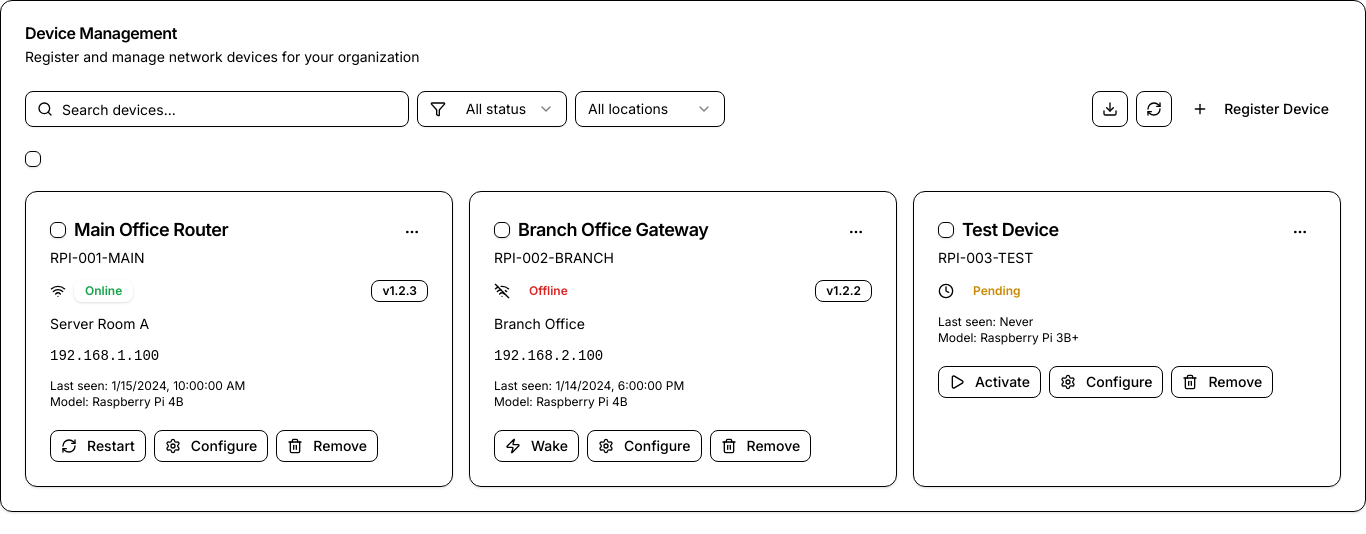
Test: DeviceRegistration › Bulk Operations › should allow selecting multiple devices
The width and height of the screenshot is (1366, 534).
Expected: the element with test id "device-card-device-1" is shown, left=25, top=191, right=453, bottom=487
Click the checkbox named "Select Main Office Router" at (58, 230), box left=50, top=222, right=66, bottom=238
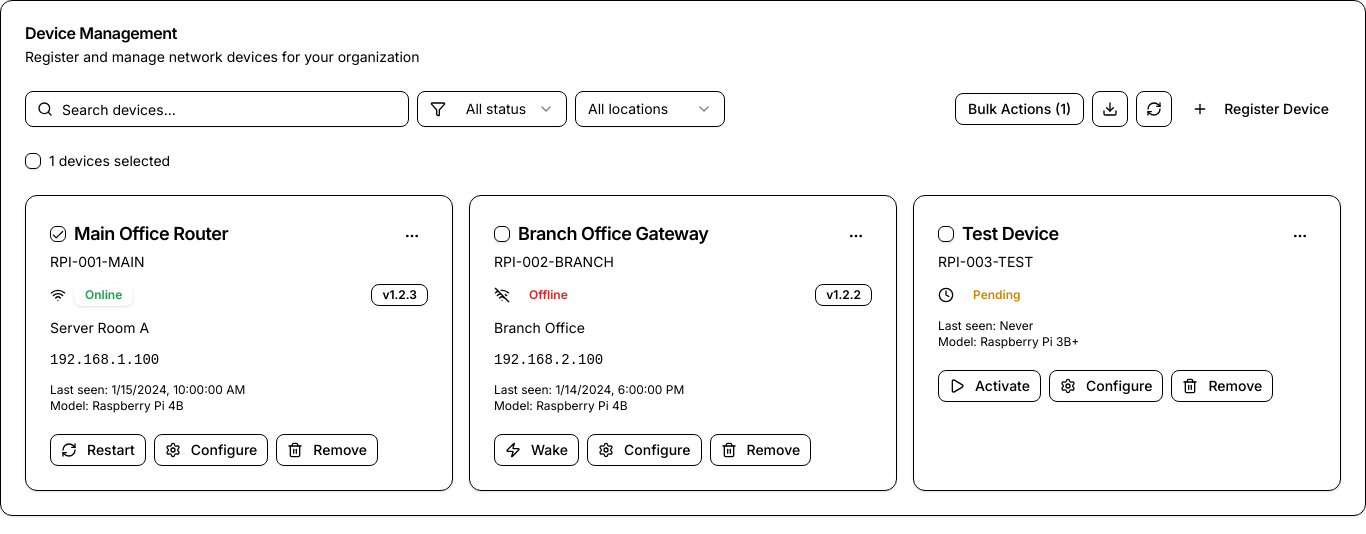
Click the checkbox named "Select Branch Office Gateway" at (502, 234), box left=494, top=226, right=510, bottom=242
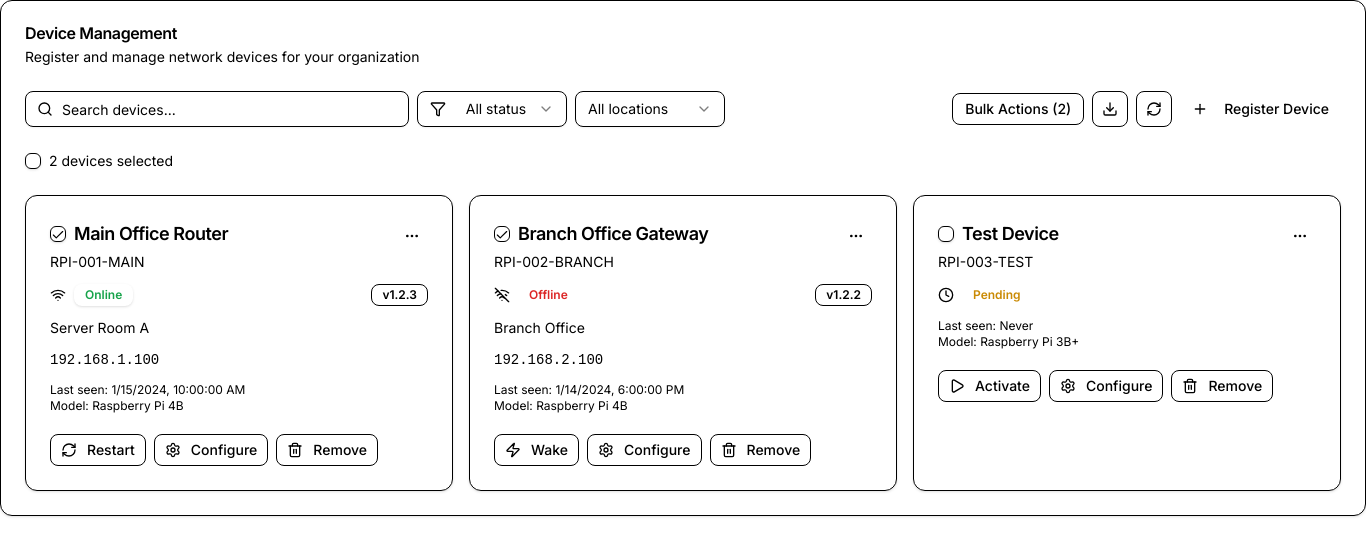
Expected: the button "Bulk Actions (2)" is shown, left=952, top=93, right=1084, bottom=125
Expected: the text "2 devices selected" is shown, left=49, top=151, right=173, bottom=171
